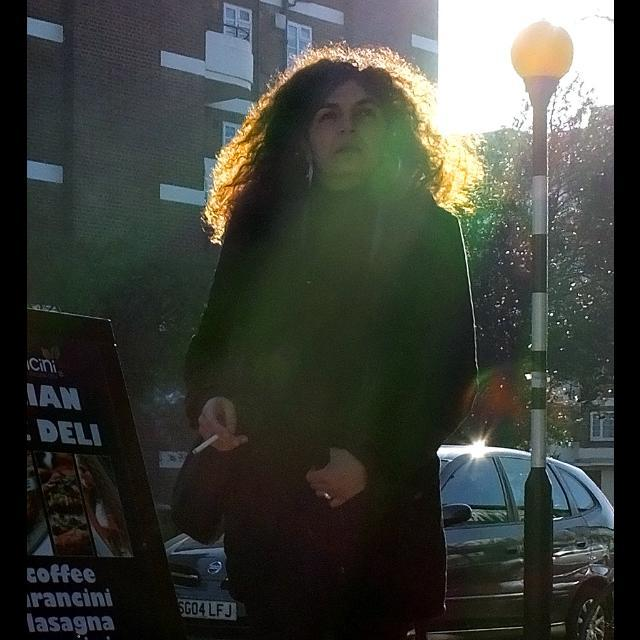rokok: (189, 434, 217, 456)
